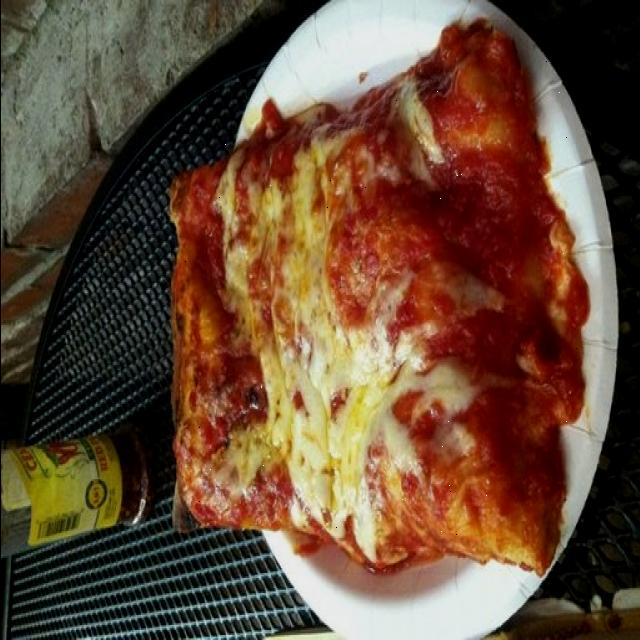pizza: (170, 20, 586, 574)
